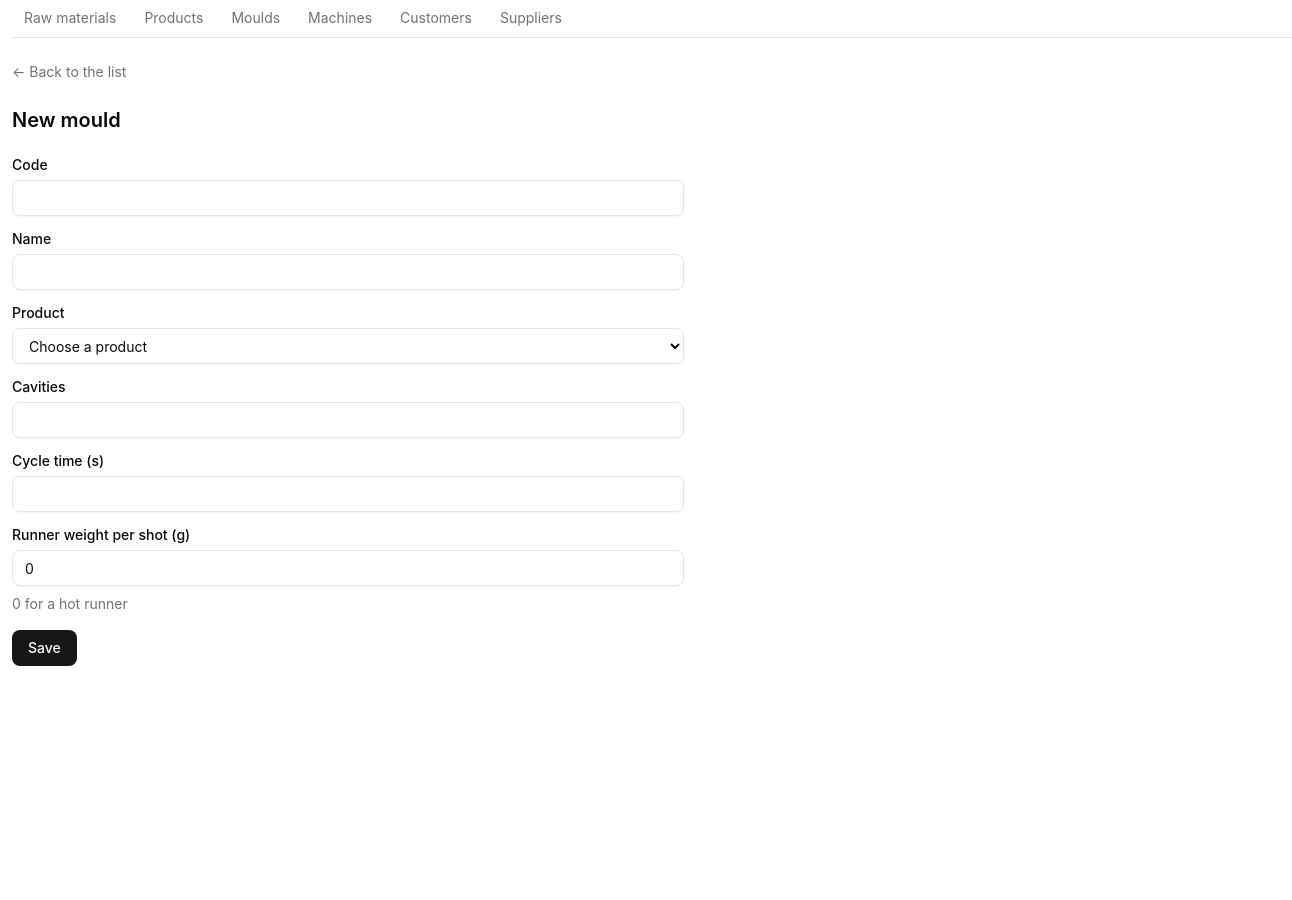
it: moulds › takes seconds and grams, and links the mould to a product
Type "M-CAP28-24" into the field labelled "Code" at coordinates (348, 198), box [12, 180, 684, 216]
Type "28 mm cap, 24 cavities" into the field labelled "Name" at coordinates (348, 272), box [12, 254, 684, 290]
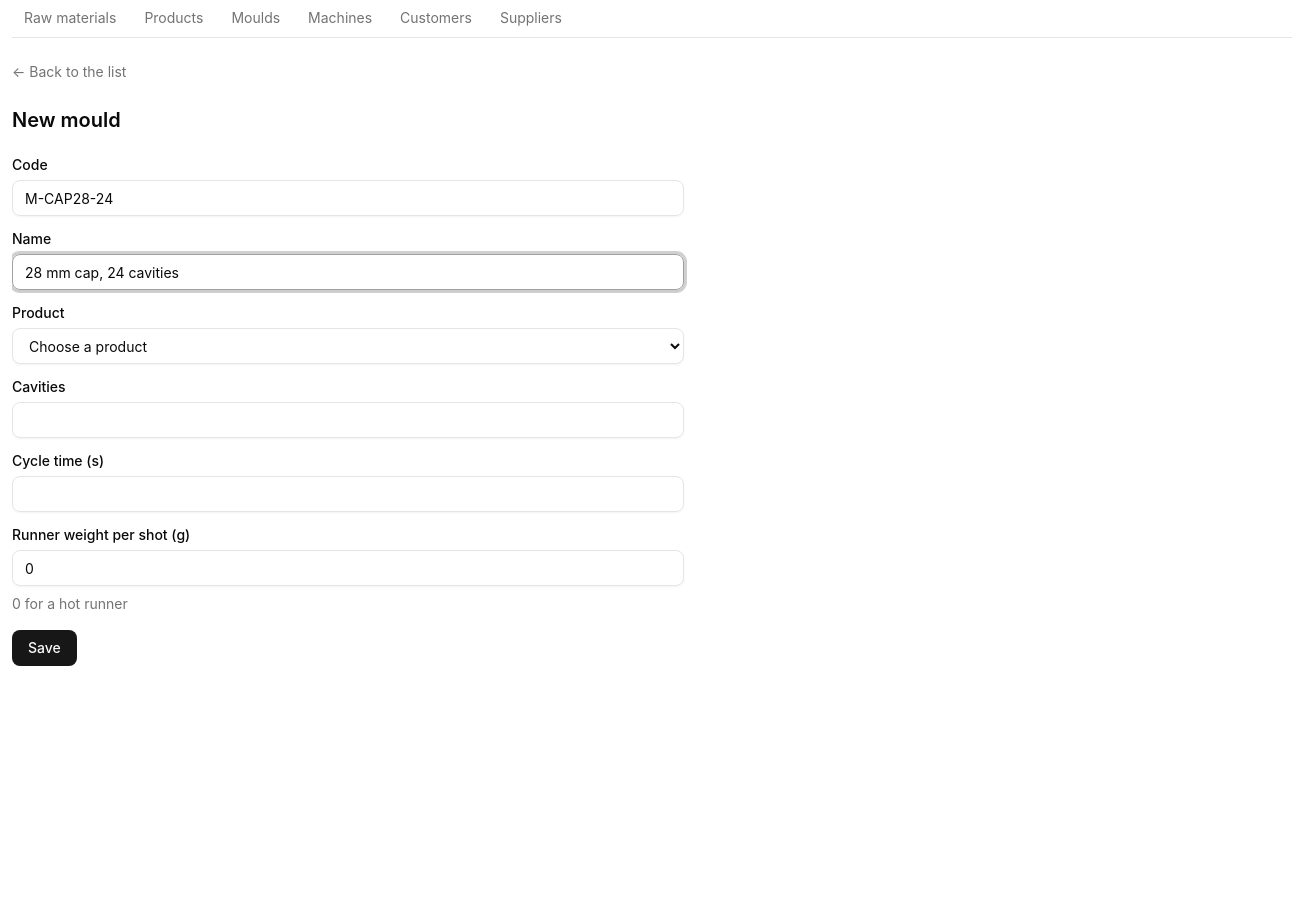
Select "CAP-28 · 28 mm bottle cap" in the dropdown labelled "Product" at coordinates (348, 346), box [12, 328, 684, 364]
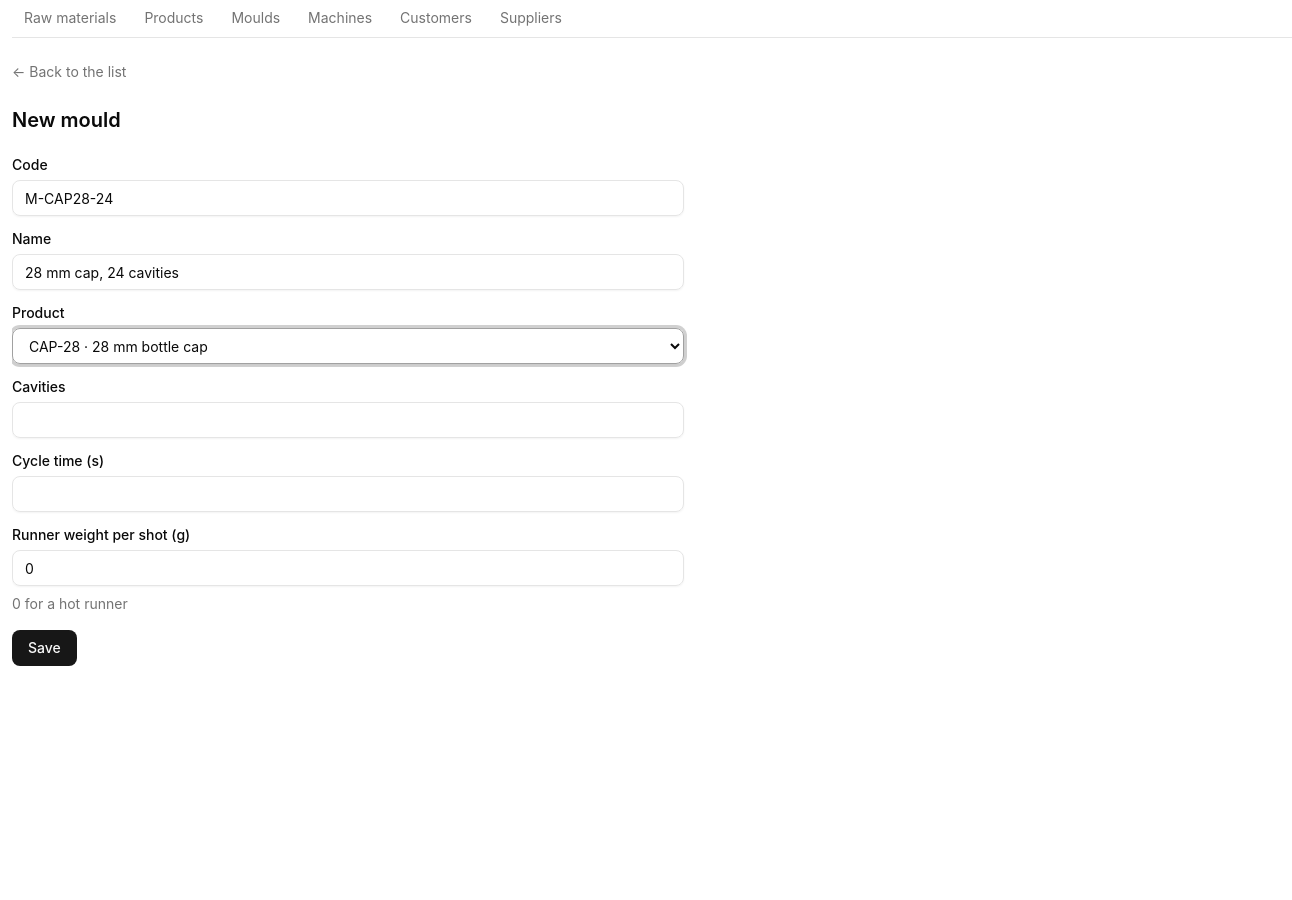
Type "24" into the field labelled "Cavities" at coordinates (348, 420), box [12, 402, 684, 438]
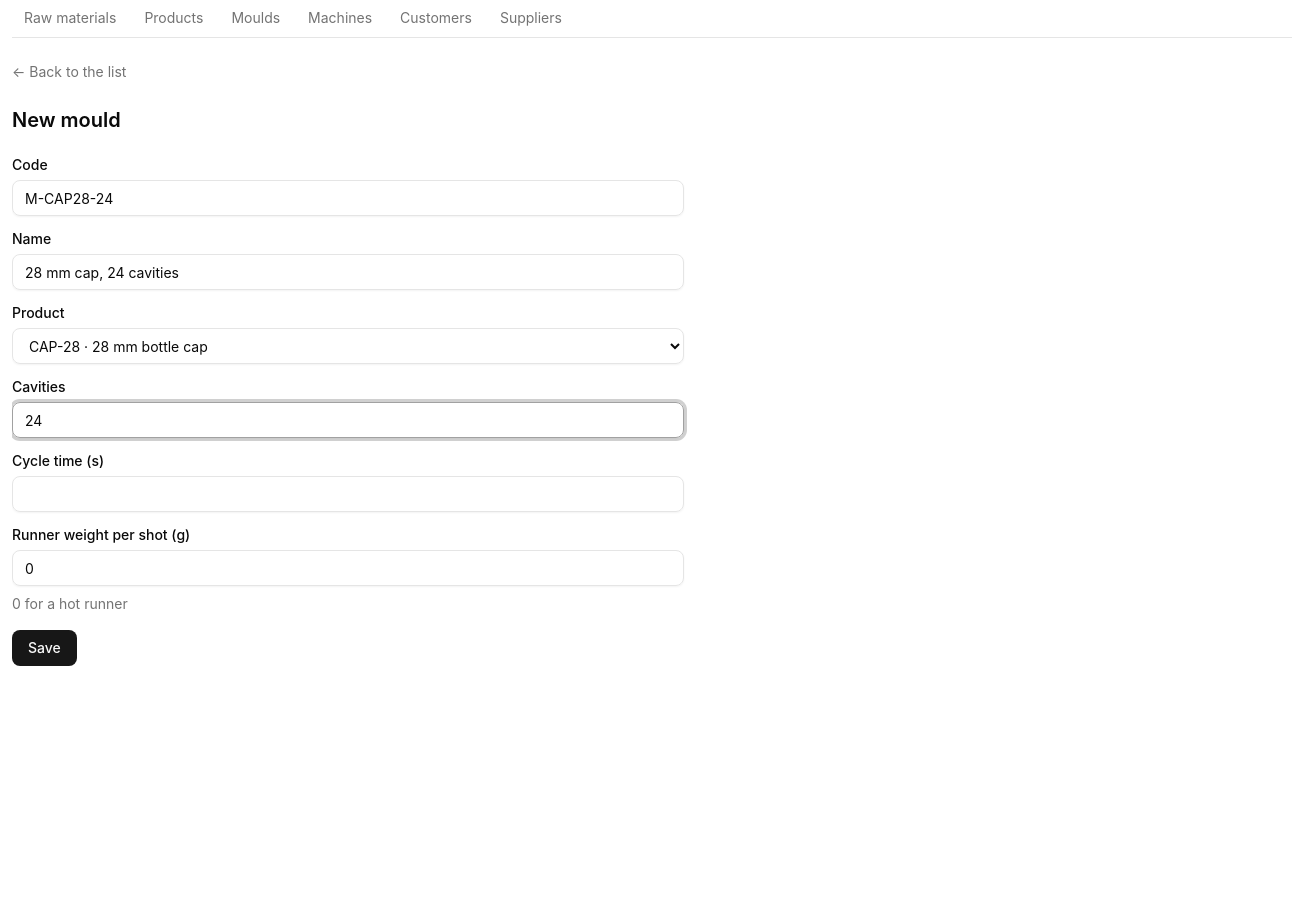
Type "8.5" into the field labelled "Cycle time (s)" at coordinates (348, 494), box [12, 476, 684, 512]
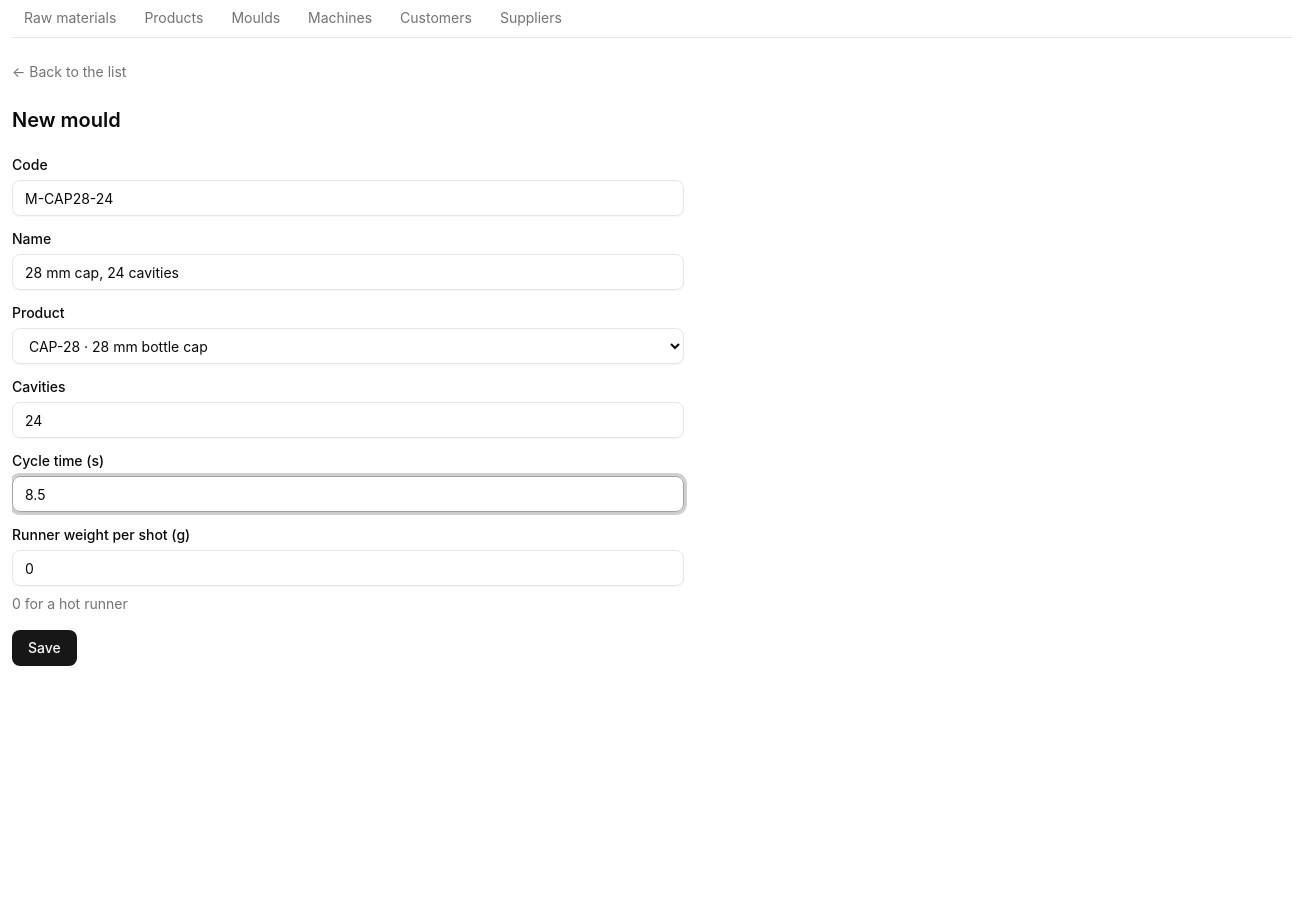
Replace the text in the field labelled "Runner weight per shot (g)" with "18" at coordinates (348, 568), box [12, 550, 684, 586]
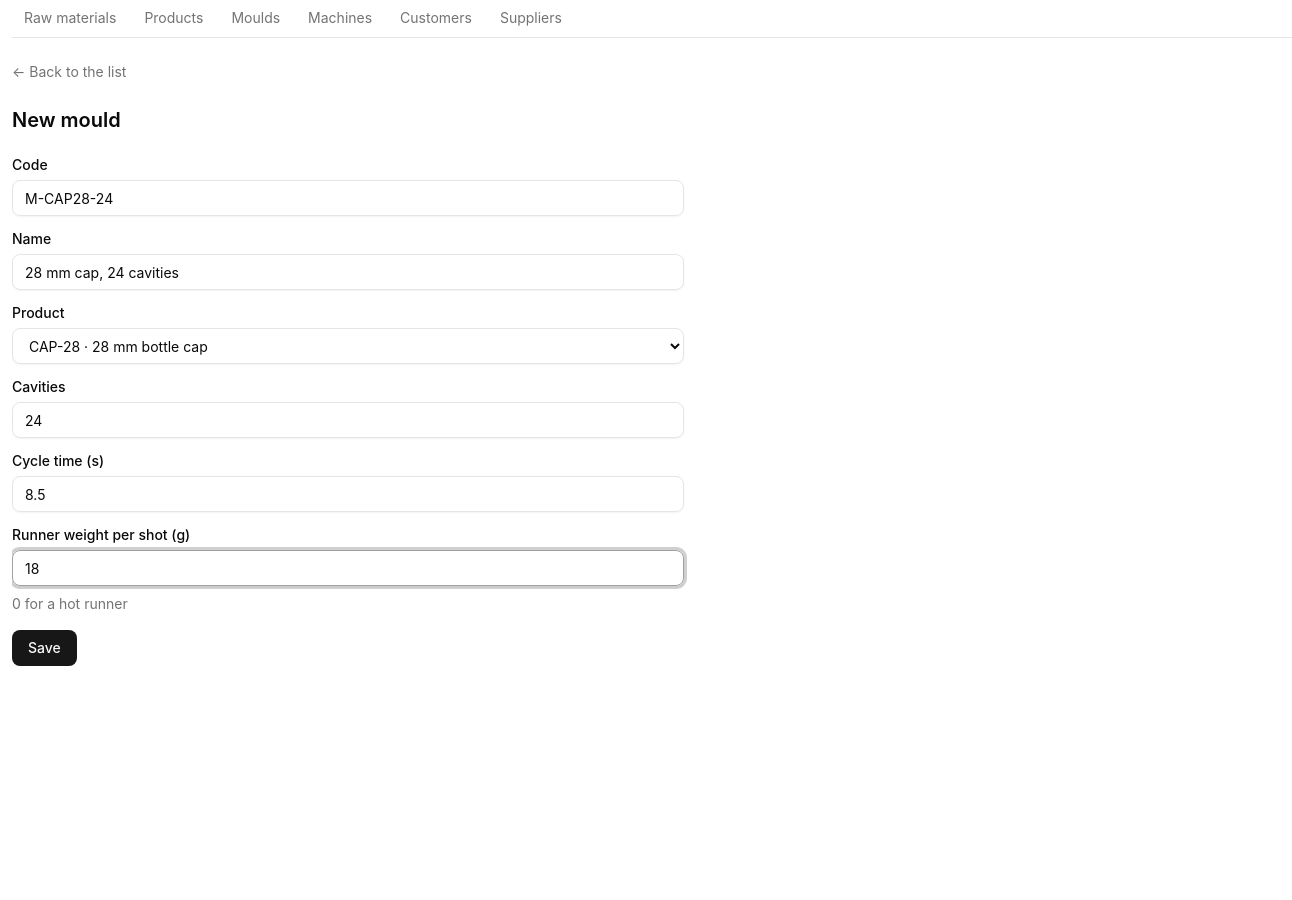
Click the button "Save" at coordinates (44, 648), box [12, 630, 77, 666]
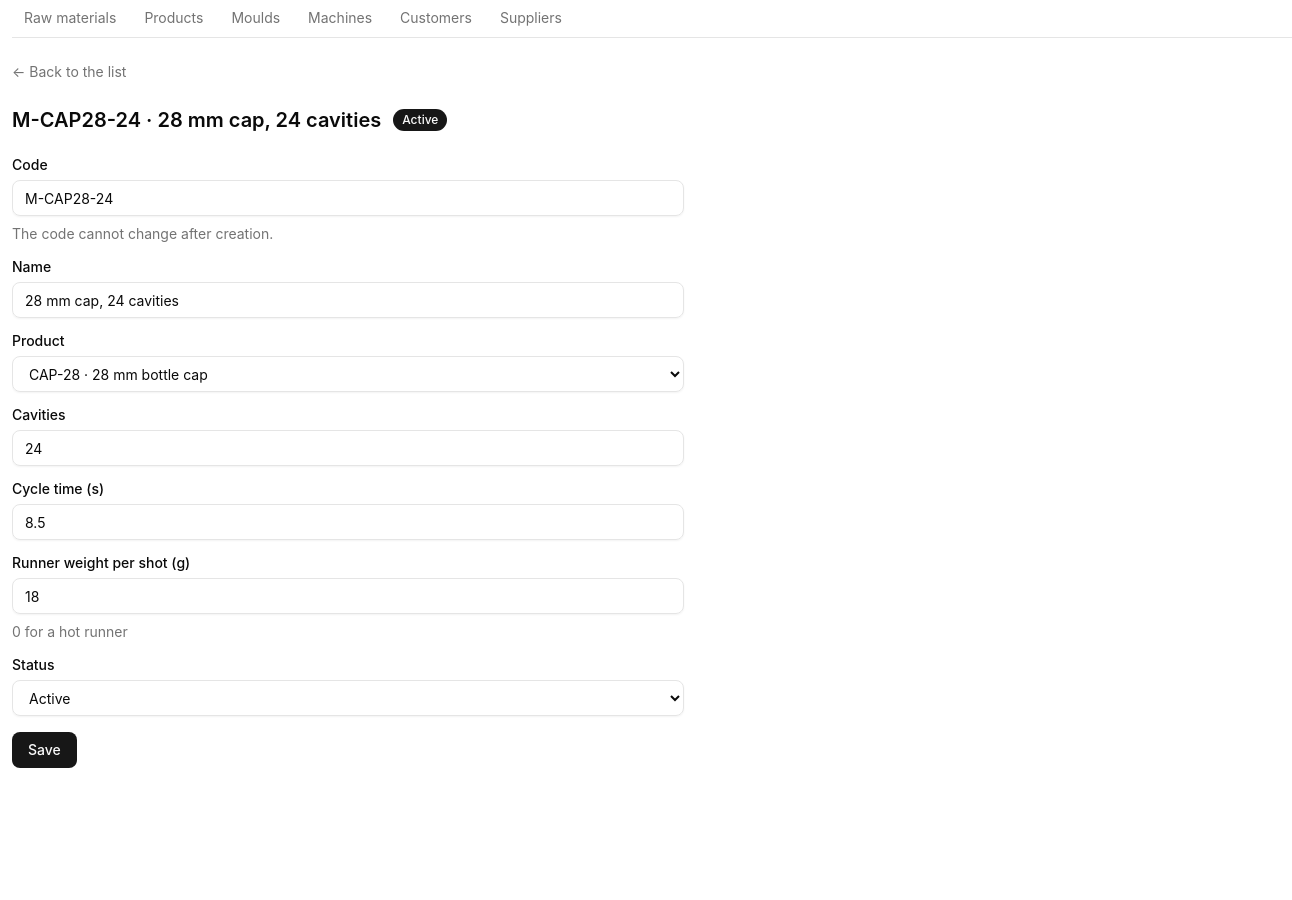
Expected: the heading "M-CAP28-24 · 28 mm cap, 24 cavities" is shown, [12, 106, 381, 134]
